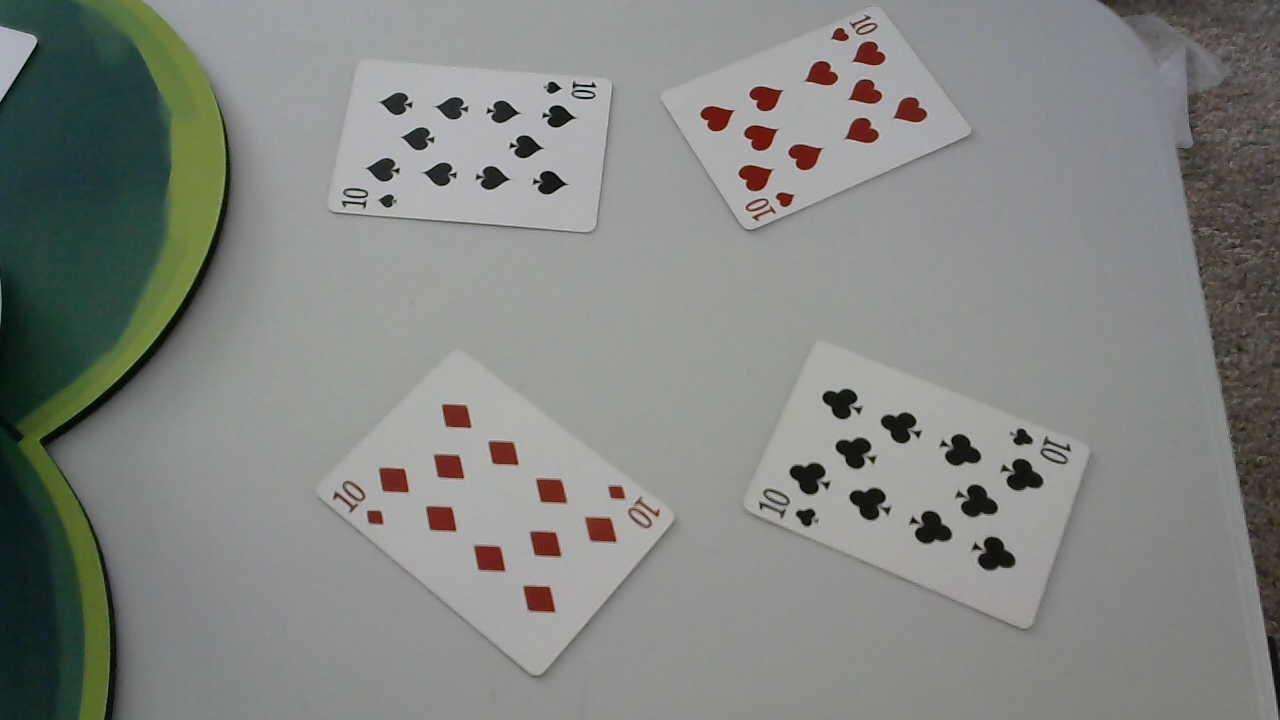10C: (754, 484, 822, 530), (1008, 426, 1074, 466)
10D: (604, 482, 663, 531), (329, 479, 386, 528)
10H: (826, 11, 881, 49), (741, 190, 799, 226)
10S: (337, 186, 400, 211), (539, 77, 600, 102)
